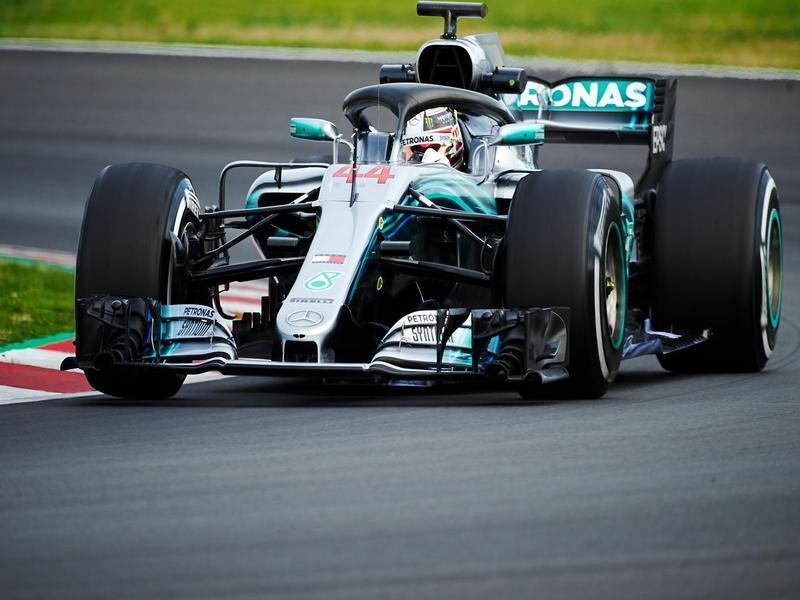f1: (68, 3, 782, 404)
